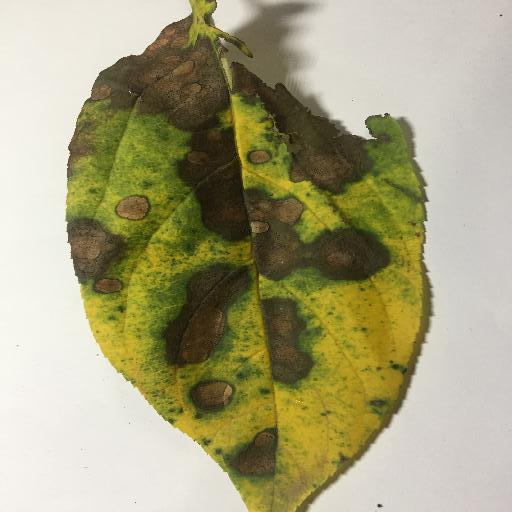Brown_Spot: (242, 80, 379, 184), (107, 27, 200, 111), (176, 267, 247, 364), (243, 177, 299, 273), (192, 145, 243, 244), (78, 230, 128, 297), (265, 295, 306, 372), (312, 233, 384, 275), (233, 426, 277, 478), (110, 193, 151, 222), (198, 382, 232, 407), (252, 143, 270, 169)
